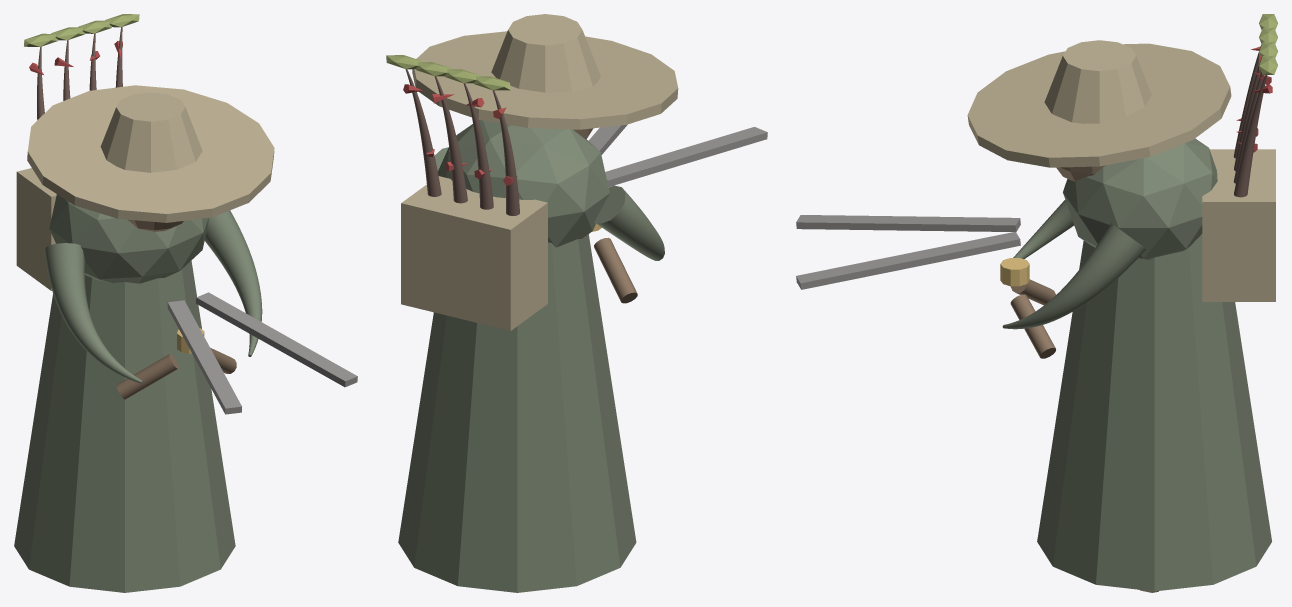
The model's file is last_gardener.glb.
3 views of the same model, side by side, from view 1: azimuth 30°, elevation 25°; view 2: azimuth 150°, elevation 25°; view 3: azimuth 270°, elevation 25° (orthographic). The views are drawn at different scales.
Visible parts, largest first — view 1: last_gardener; view 2: last_gardener; view 3: last_gardener.
Part boxes in pixels (x1,y1,x2,y2): last_gardener: (14,14,357,592); last_gardener: (386,14,767,592); last_gardener: (796,14,1277,592).
Bounding box in the file's own units: 0.72 × 1.6 × 1.31.
